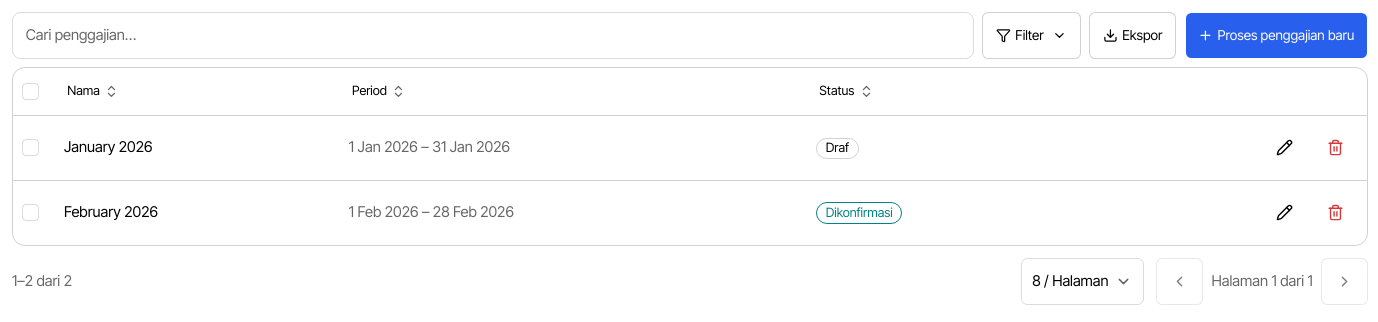
Test: PayrollRunsSection › filters runs by search
Expected: the link "January 2026" is shown, 64,138 -> 152,156
Type "February" into the search field with placeholder "Cari penggajian…" at point(493, 35), box 12,12 -> 974,59
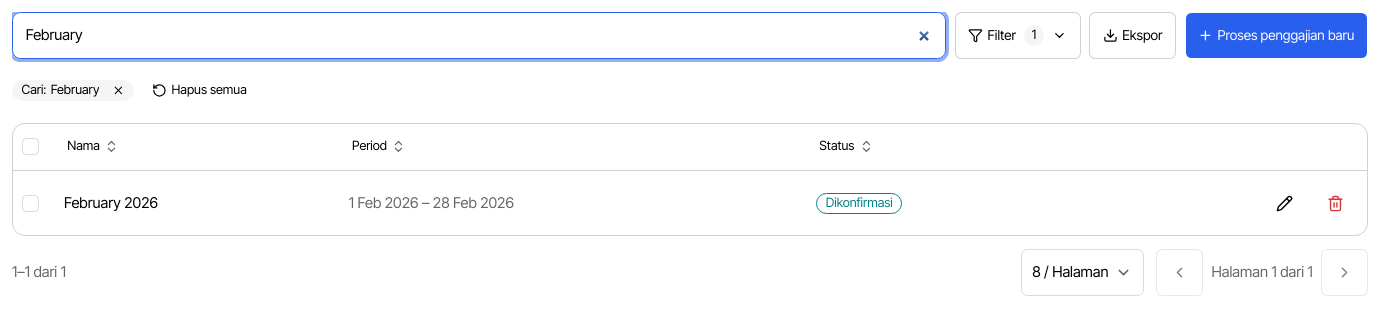
Expected: the link "February 2026" is shown, 64,194 -> 158,212
Now the link "January 2026" is gone
